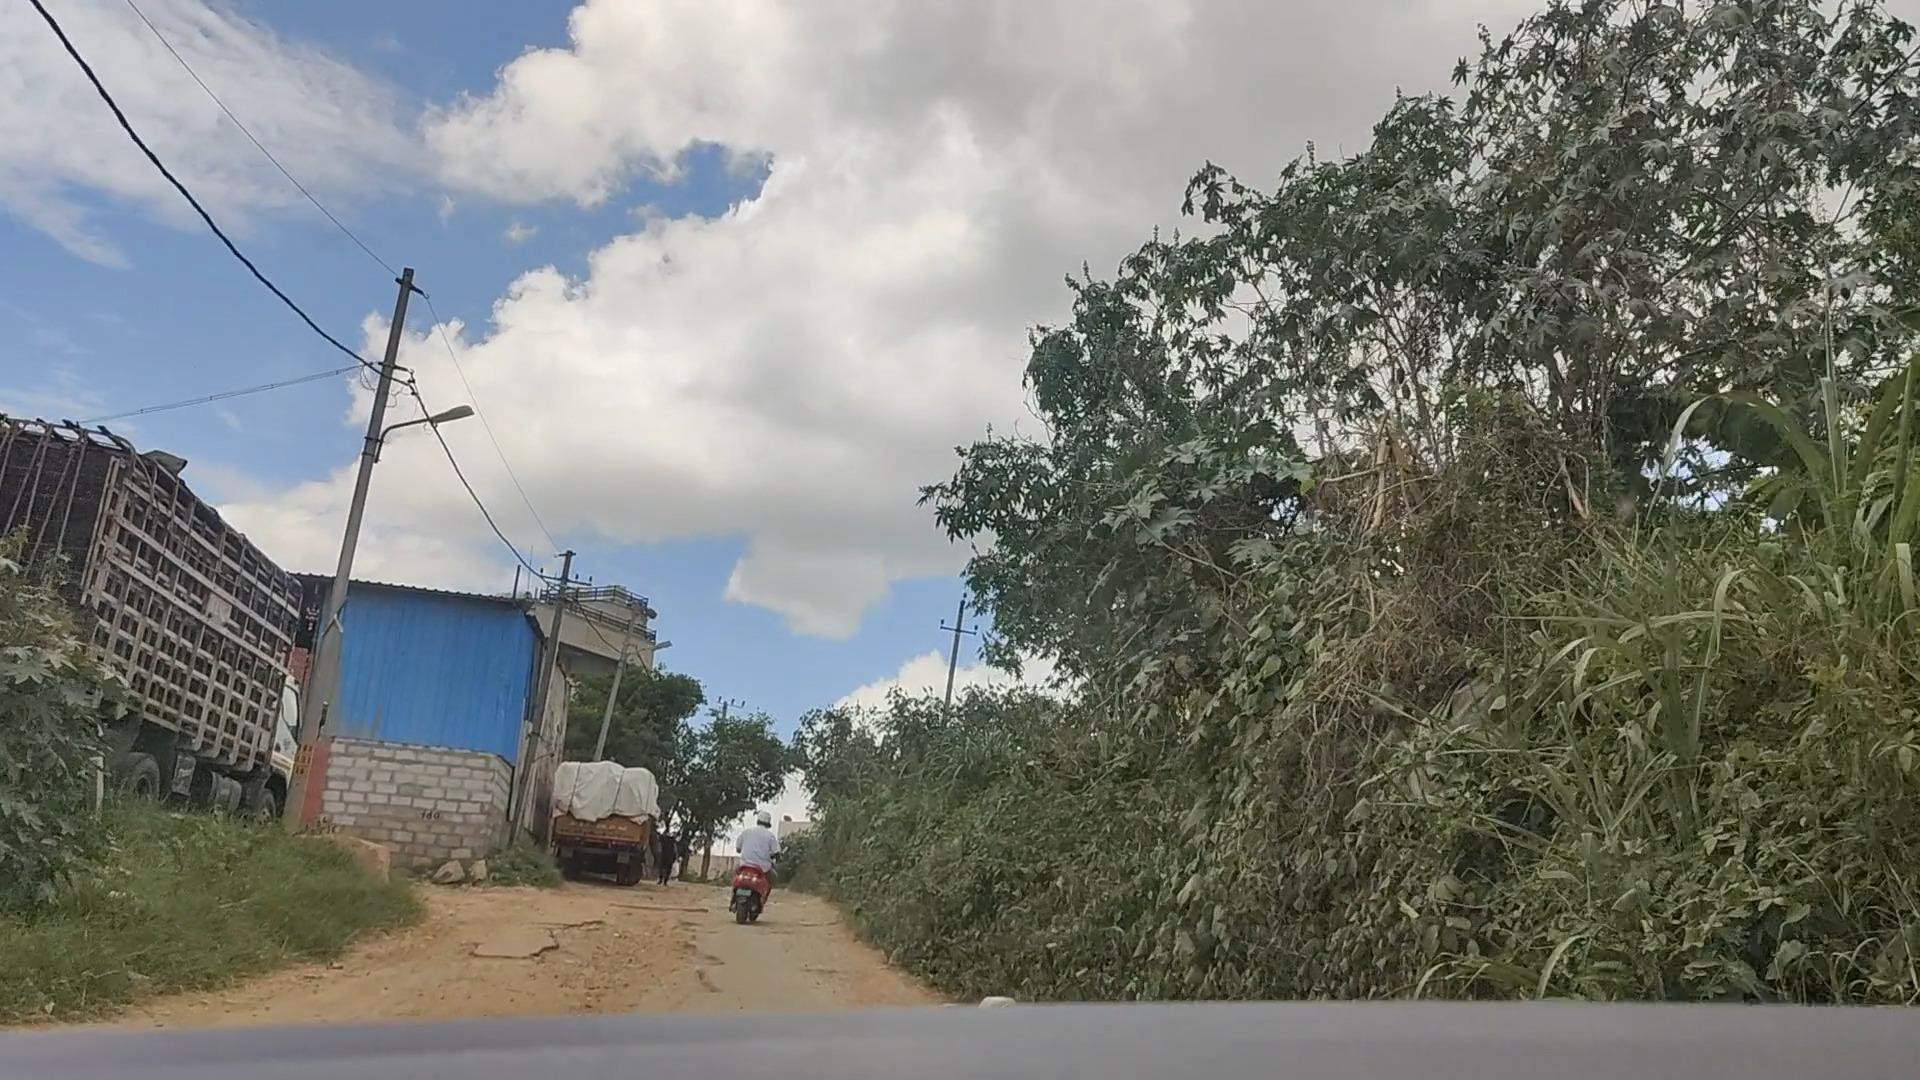HMV: (546, 753, 657, 886)
RoadDamages: (451, 906, 748, 1005)
